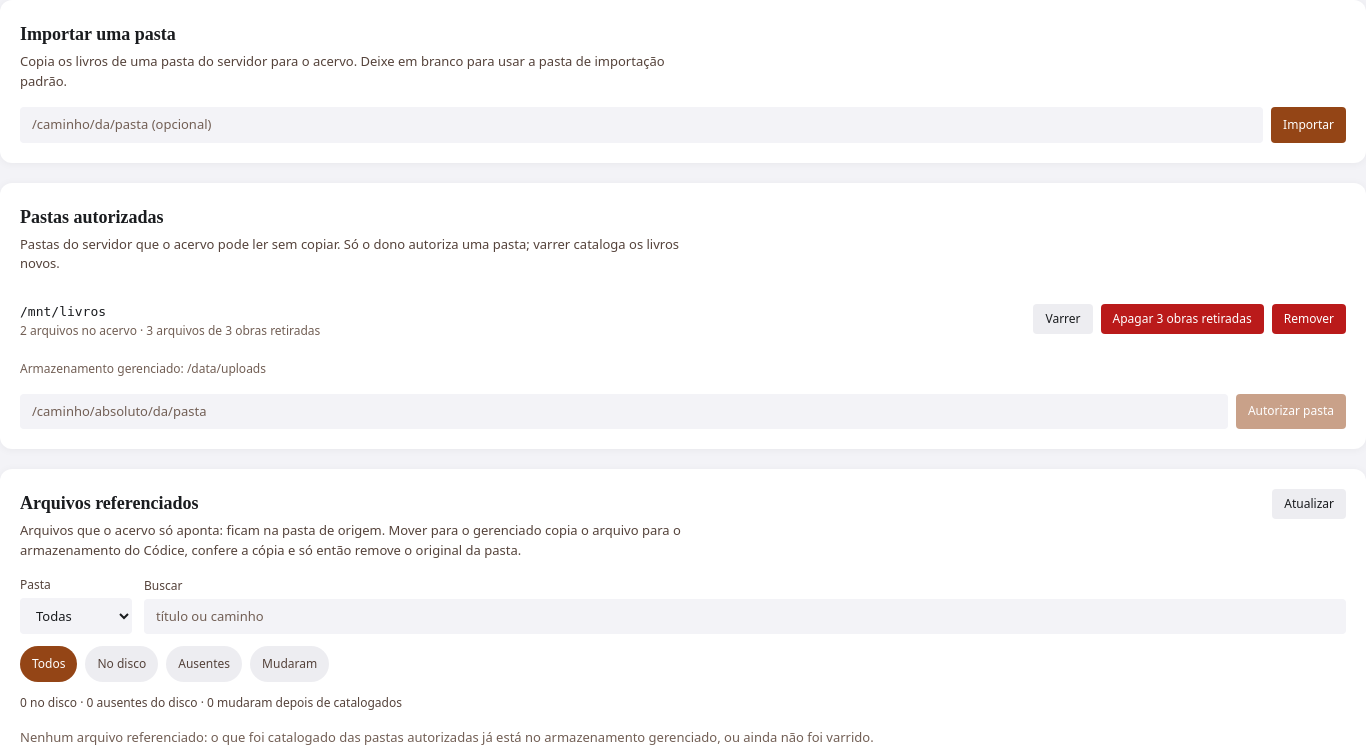
Test: StorageTab: the retired works of a folder (#230) › takes away the refusal to remove the folder once the works it was about are deleted
Step 1. Click the button "Remover" → (1309, 318), box 1272,304 -> 1346,334
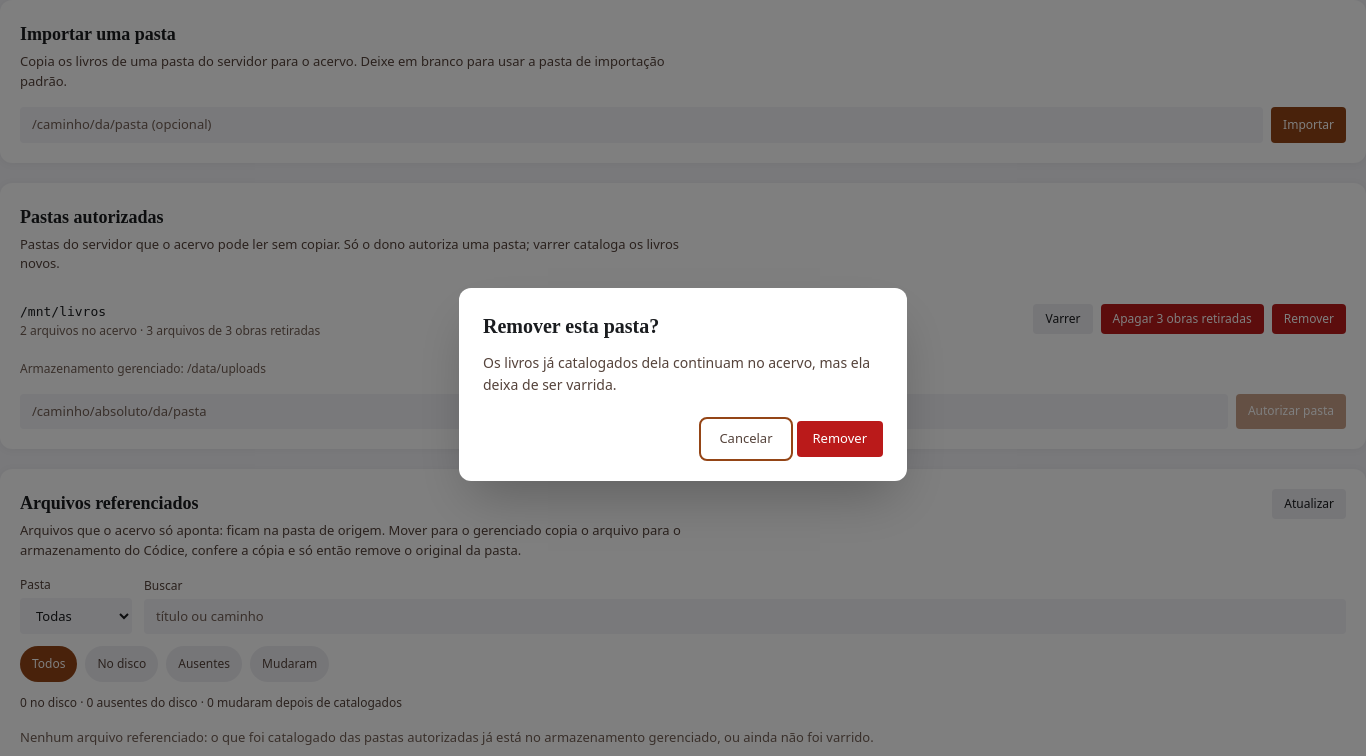
Step 2. Click the button "Remover" → (840, 439), box 796,421 -> 883,456
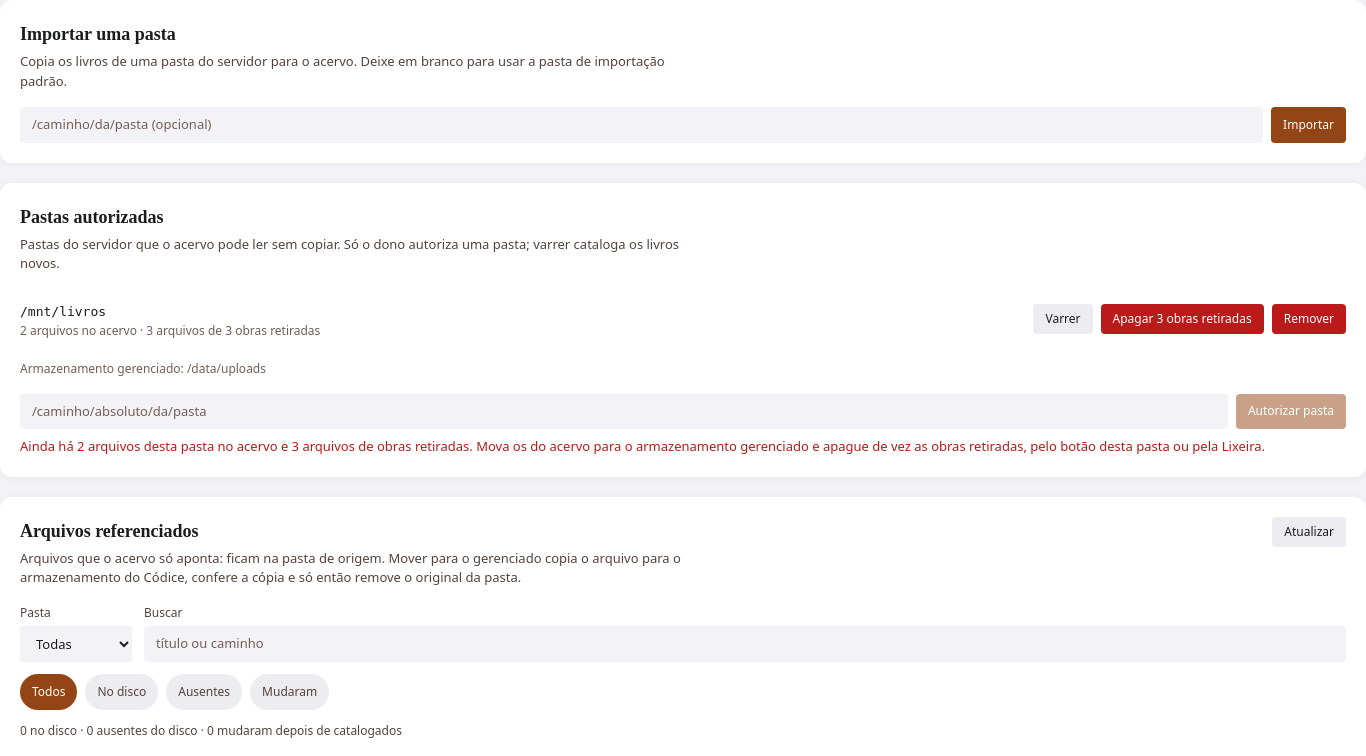
Now the message shows "Ainda há 2 arquivos desta pasta no acervo e 3 arquivos de obras retiradas", box 20,437 -> 1265,455
Step 3. Click the button "Apagar 3 obras retiradas" → (1182, 318), box 1101,304 -> 1264,334
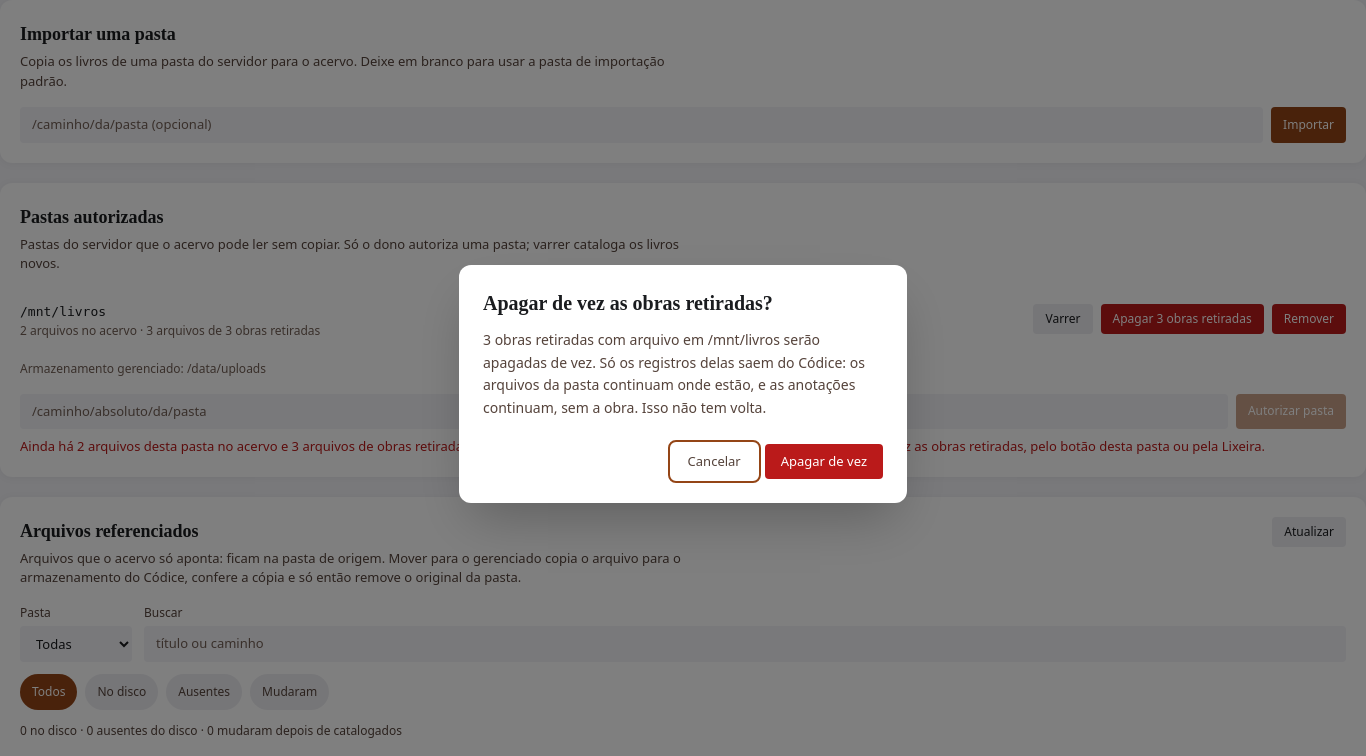
Step 4. Click the button "Apagar de vez" → (824, 462), box 765,444 -> 883,479
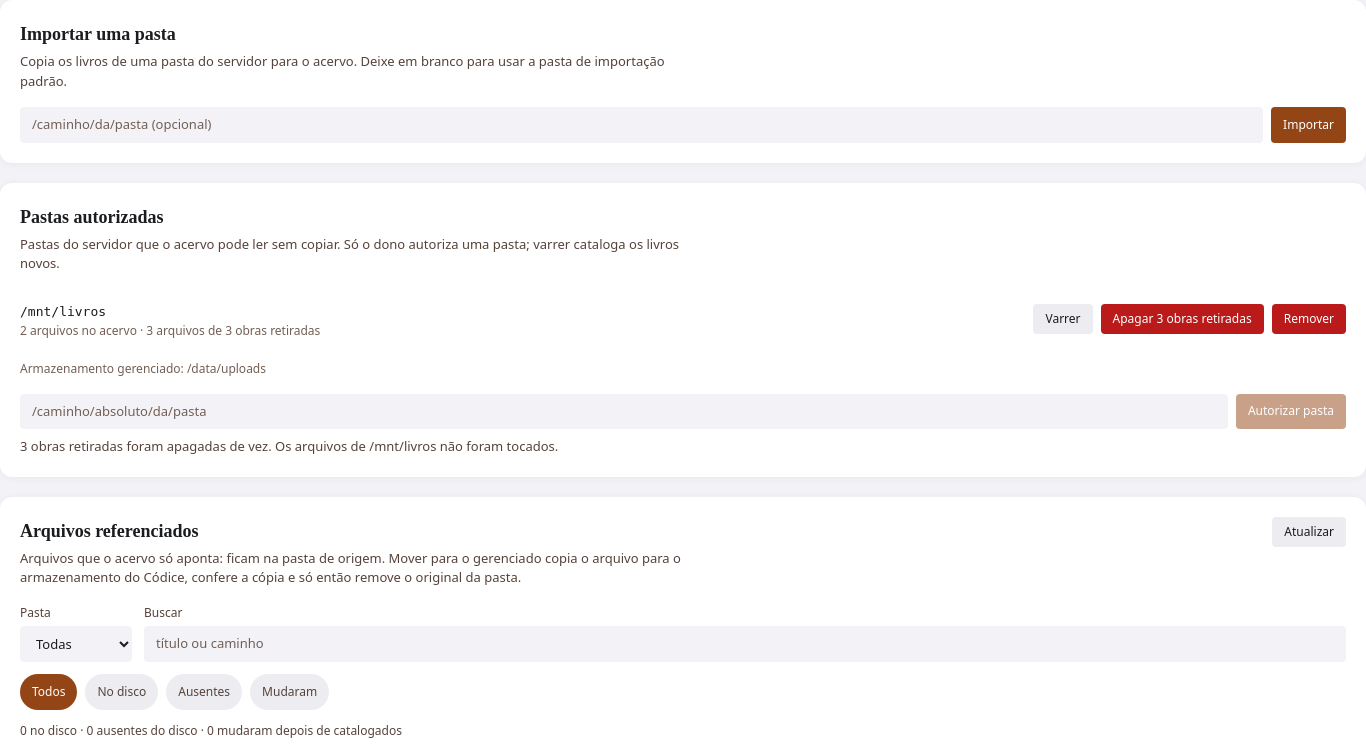
Now the message "Ainda há 2 arquivos desta pasta no acervo e 3 arquivos de obras retiradas. Mova" is gone
